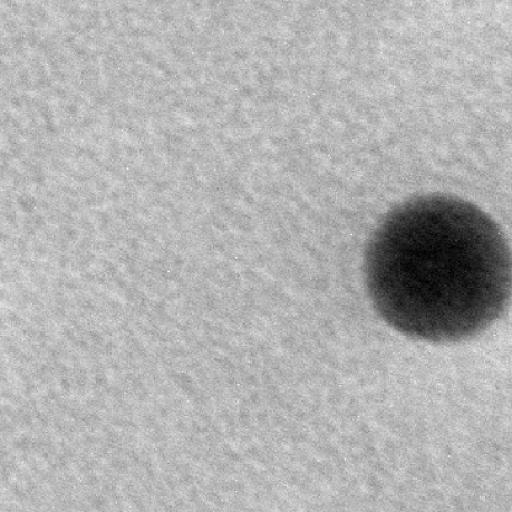Nanoparticles: (362, 188, 511, 347)
